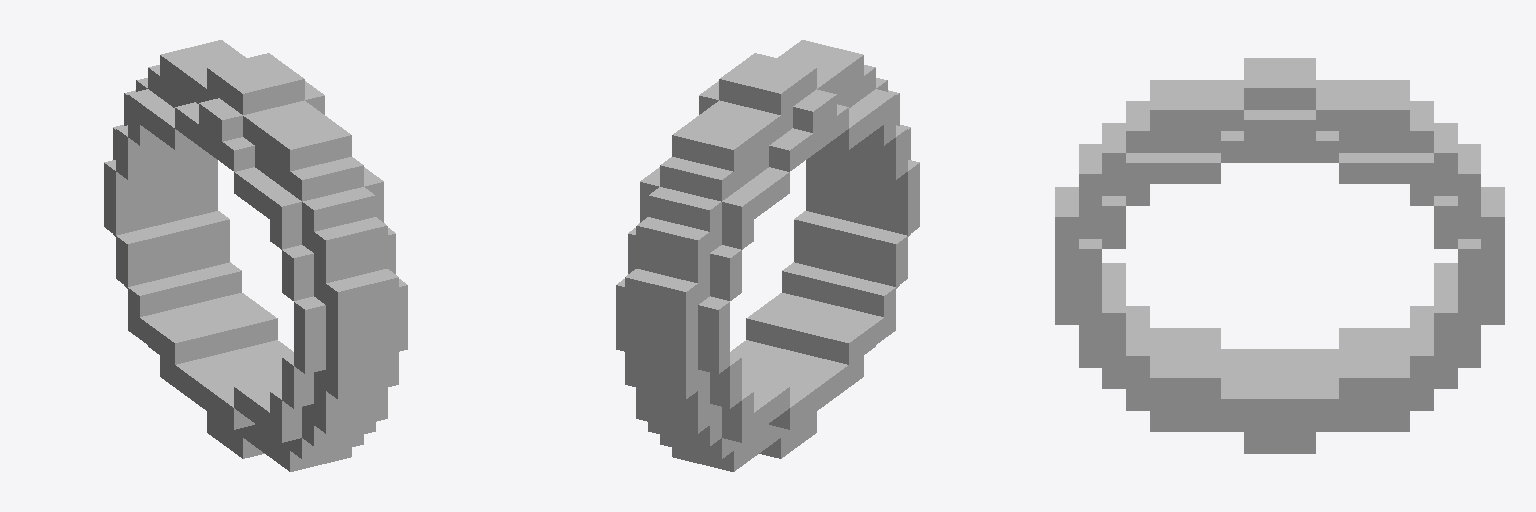
File: brecelet_red.vox.obj
The picture shows the model from 3 angles: view 1: azimuth 30°, elevation 25°; view 2: azimuth 150°, elevation 25°; view 3: azimuth 270°, elevation 25°; orthographic projection.
Parts seen in each view (by area): view 1: object 1; view 2: object 1; view 3: object 1.
Boxes of the visible parts, <box> form: object 1: <box>104,40,407,471</box>; object 1: <box>616,40,919,471</box>; object 1: <box>1055,58,1504,453</box>.
Size of the model in its own units: 0.5 by 1.7 by 1.9.